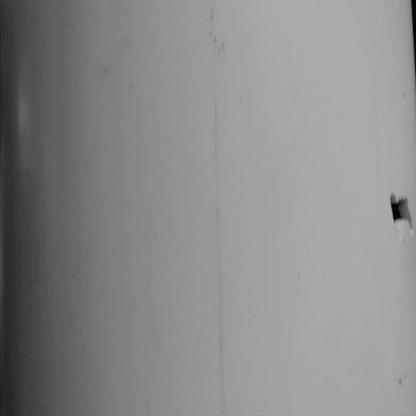kongdong: (374, 174, 416, 238)
